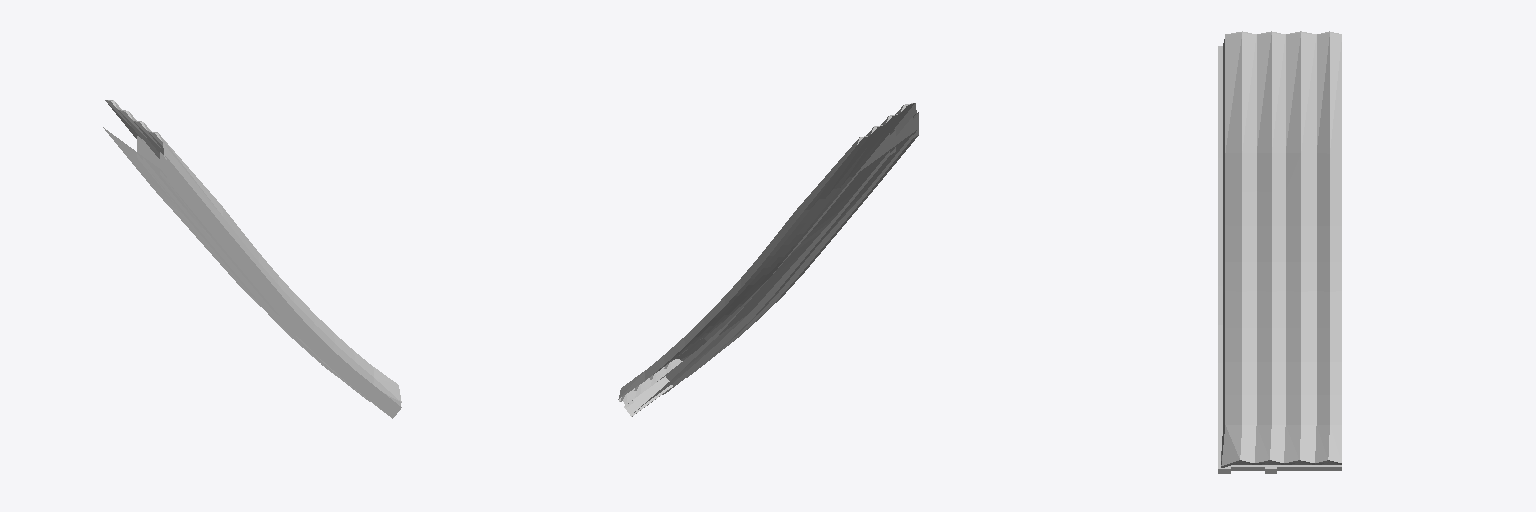
Rendered from Roof_Modular_RoundTiles_8_K_Half.obj.
The picture shows the model from 3 angles: view 1: azimuth 30°, elevation 25°; view 2: azimuth 150°, elevation 25°; view 3: azimuth 270°, elevation 25°; orthographic projection.
Visible parts, largest first — view 1: Roof_Modular_RoundTiles_8_K_Half; view 2: Roof_Modular_RoundTiles_8_K_Half; view 3: Roof_Modular_RoundTiles_8_K_Half.
Part boxes in pixels (x1,y1,x2,y2): Roof_Modular_RoundTiles_8_K_Half: (103,100,401,418); Roof_Modular_RoundTiles_8_K_Half: (618,103,918,416); Roof_Modular_RoundTiles_8_K_Half: (1218,31,1341,473).
Bounding box in the file's own units: 5.12 × 6.6 × 2.25.